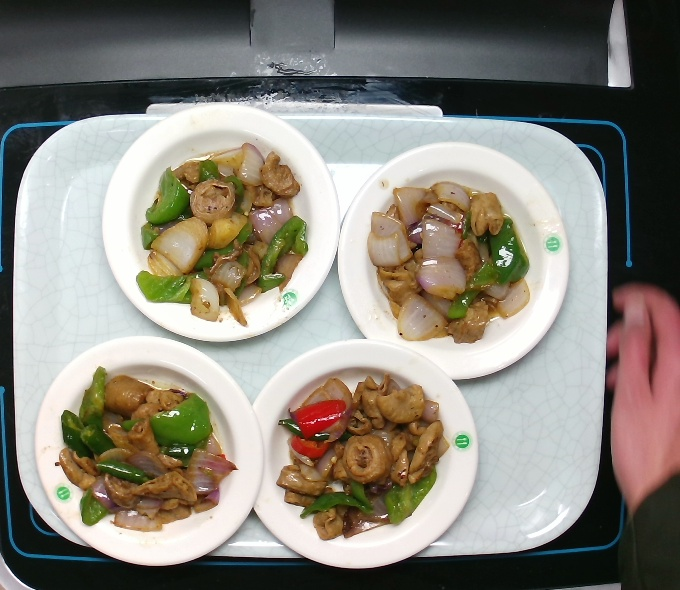wcq-QingJiaoChaoDaChang: (133, 140, 313, 332), (273, 363, 450, 543), (57, 362, 241, 535), (363, 177, 535, 347)
